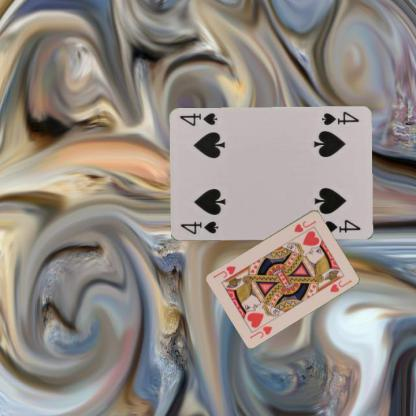4s: (318, 109, 360, 127), (177, 219, 219, 236)
Jh: (247, 323, 274, 340), (291, 218, 317, 233)
